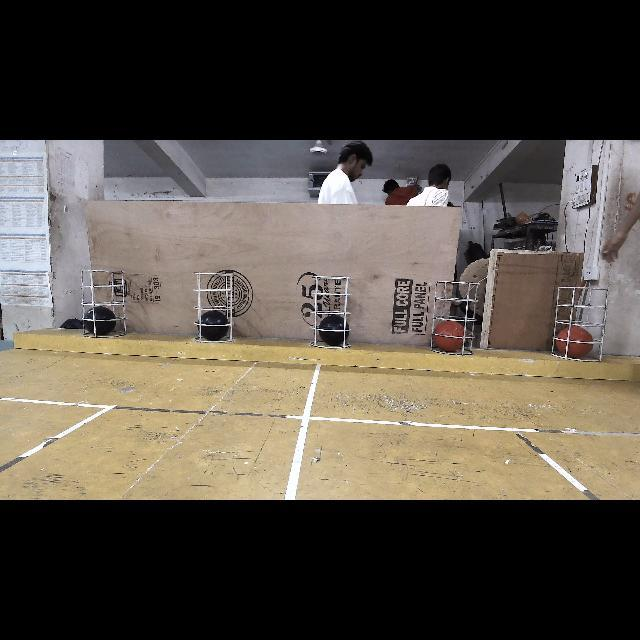P: (198, 310, 230, 340), (84, 306, 116, 334), (320, 317, 350, 343)
R: (557, 328, 591, 357), (434, 321, 466, 351)
S: (551, 281, 611, 361), (430, 280, 480, 356), (80, 266, 130, 338), (308, 274, 354, 348), (192, 270, 235, 342)
